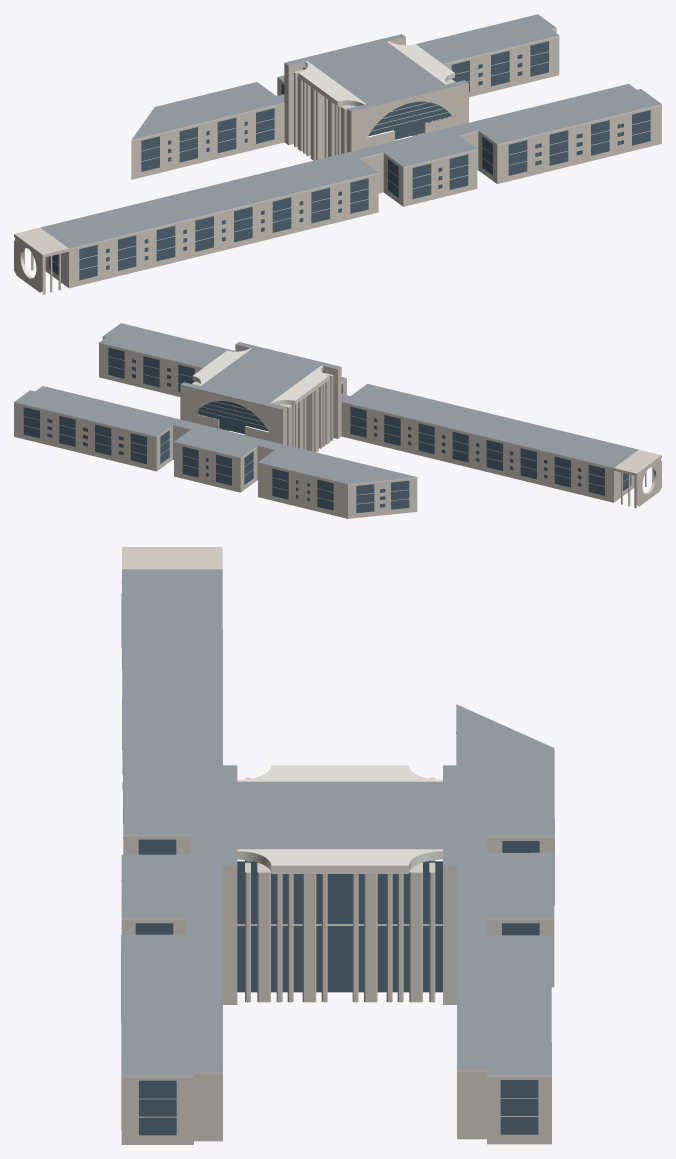
The model's file is berlin-chancellery.glb.
3 views of the same model, one above another, from view 1: azimuth 30°, elevation 25°; view 2: azimuth 150°, elevation 25°; view 3: azimuth 270°, elevation 25° (orthographic). The views are drawn at different scales.
Visible parts, largest first — view 1: Federal Chancellery; view 2: Federal Chancellery; view 3: Federal Chancellery.
Part boxes in pixels (x1,y1,x2,y2): Federal Chancellery: (14, 14, 661, 294); Federal Chancellery: (14, 323, 661, 518); Federal Chancellery: (121, 547, 554, 1144).
Size of the model in its own units: 293 by 36 by 102.
